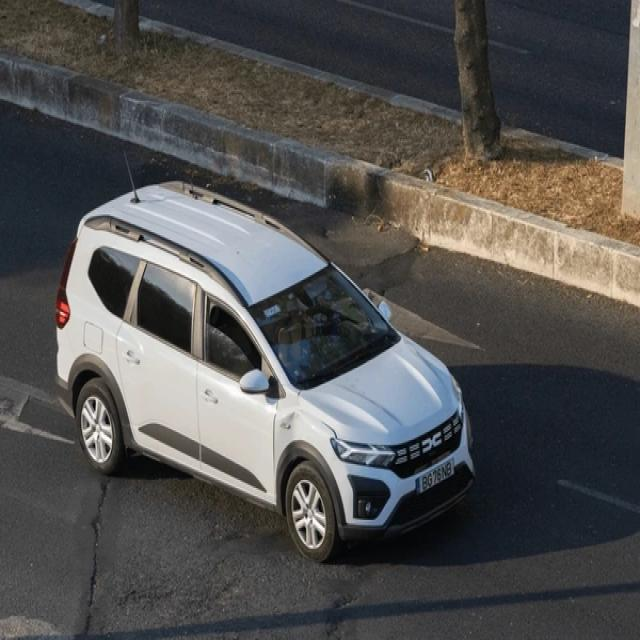dacia: (422, 431, 443, 457)
